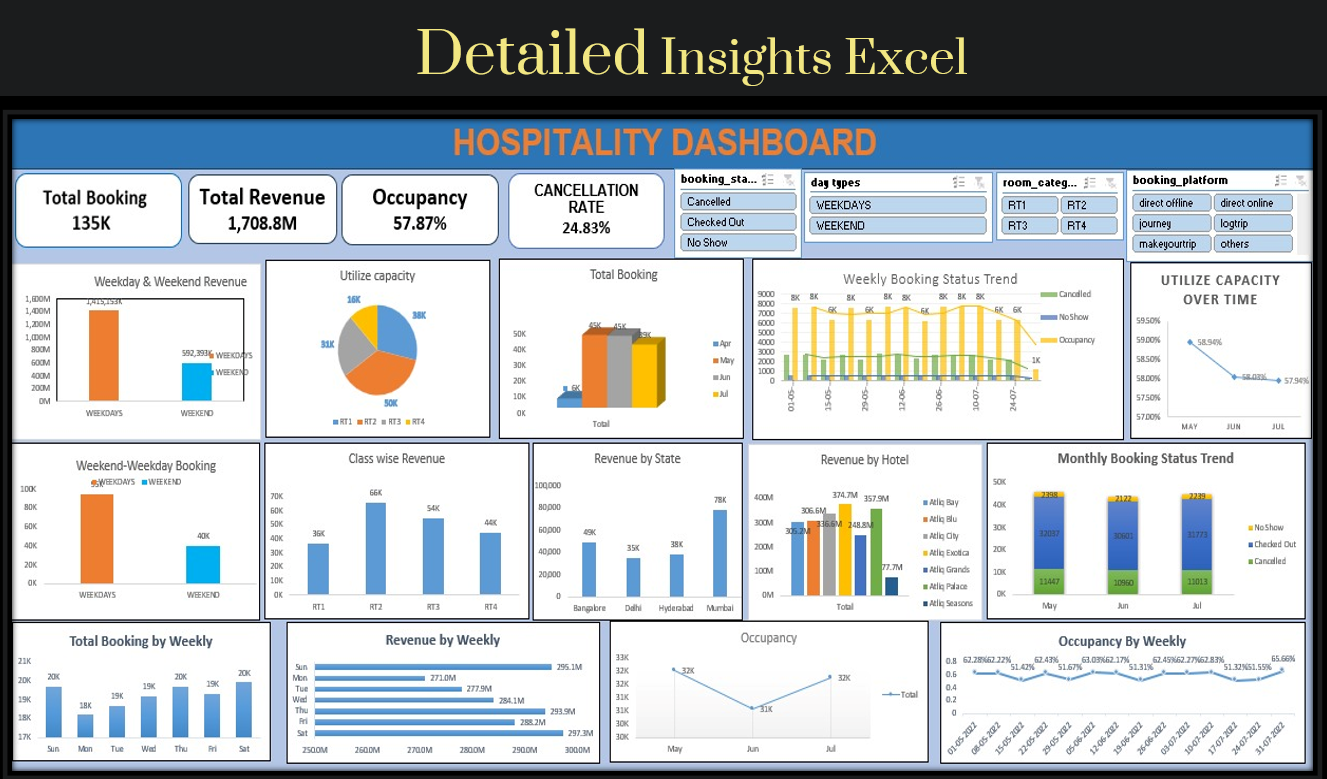

Layout of this report page (visuals, bound fields, positions):
{"tool":"tableau","page":{"name":"FINAL DB","canvas":[1000,1000],"units":"permille","ordinal":1},"visuals":[{"type":"title","box":[4.7,8.1,990.7,49.4]},{"type":"text","box":[890.3,58.7,104.9,91.1]},{"type":"image","param":"Image/Luxury Hotel Photography Portfolio _ 5 Brand Approved _ Bruce Vincentiis.j","box":[831,63.5,51.2,88.5]},{"type":"worksheet","title":"Total Bookings","mark":"Text","box":[256.9,71.9,120.2,100]},{"type":"worksheet","title":"Total Revenue","mark":"Automatic","box":[5.6,74.8,178.4,98.5]},{"type":"image","param":"Image/download (1).jpeg","box":[175.7,77.1,58,69.8]},{"type":"worksheet","title":"Occupancy Rate","mark":"Automatic","box":[427.1,77.1,148.3,89.6]},{"type":"worksheet","title":"Cancellation Rate","mark":"Automatic","box":[627.2,77.1,134.8,92.7]},{"type":"image","param":"Image/pppppp.jpg","box":[366.7,79.2,42.1,99]},{"type":"image","param":"Image/11442f2e-5ce3-4531-bb70-c4c4ab901af6.jpeg","box":[752.3,83.3,77.5,66.7]},{"type":"image","param":"Image/ooooooooooo.jpg","box":[547.3,84.4,39.7,69.8]},{"type":"filter","title":"Weekly Trend","param":"[federated.1bcq42s1rzw6071femzsl03fih8j].[mn:booking_date:ok]","box":[893.9,132.3,98.9,178.5]},{"type":"worksheet","title":"reveneu over property","mark":"Automatic","rows":["revenue_realized"],"cols":["booking_platform"],"box":[6.7,157.3,333.1,276]},{"type":"worksheet","title":"Sheet 18","mark":"Bar","rows":["booking_date"],"cols":["booking_id"],"box":[342.9,157.3,333.1,275]},{"type":"worksheet","title":"Weekday vs Weekend Revenue and Bookings","mark":"Bar","rows":["revenue_realized","Booking Id (copy 2)_763360169300037638"],"cols":["Calculation_763360169298223109","check_in_date (fact!aggregated!bookings)"],"box":[678.5,157.3,205,275]},{"type":"filter","title":"Weekly Trend","param":"[federated.1bcq42s1rzw6071femzsl03fih8j].[none:Calculation_763360169298223109:nk","box":[895.1,284.4,98.8,121.9]},{"type":"filter","title":"Revenue By State and Hotel","param":"[federated.1bcq42s1rzw6071femzsl03fih8j].[none:booking_platform:nk]","box":[895.1,384.4,98.8,263.5]},{"type":"worksheet","title":"BOOKING STATUS","mark":"Circle","box":[206.2,437.5,180,270.8]},{"type":"worksheet","title":"Sheet 17","mark":"Automatic","rows":["booking_id"],"cols":["property_name"],"box":[6.1,438.5,197.7,278.1]},{"type":"worksheet","title":"Weekly Trends","mark":"Automatic","rows":["revenue_realized","booking_id","capacity"],"cols":["check_in_date"],"box":[388.7,438.5,246.5,270.8]},{"type":"worksheet","title":"Class-wise Revenue","mark":"Automatic","rows":["room_category (fact!aggregated!bookings)"],"cols":["revenue_realized"],"box":[638.8,438.5,246.5,270.8]},{"type":"filter","title":"Revenue By State and Hotel","param":"[federated.1bcq42s1rzw6071femzsl03fih8j].[none:city:nk]","box":[896.9,604.2,98.8,178.1]},{"type":"worksheet","title":"Weekly Trend","mark":"Bar","rows":["check_in_date (fact!aggregated!bookings)","check_in_date (fact!aggregated!bookings)"],"cols":["revenue_realized"],"box":[7.3,714.6,256.2,272.9]},{"type":"worksheet","title":"Sheet 16","mark":"Automatic","box":[267.9,715.6,283.1,269.8]},{"type":"worksheet","title":"Revenue By State and Hotel","mark":"Automatic","rows":["revenue_realized"],"cols":["property_name"],"box":[553.4,716.7,333.1,268.8]}]}

Visuals, with their boxes on the dashboard's canvas, which has no fixed pixel size, in thousandths of its width and height (x1, y1, x2, y2). These are canvas units, not pixel positions in the 1327x779 screenshot, which may show the page scaled, cropped or inside an application window:
title: region(5, 8, 995, 58)
text: region(890, 59, 995, 150)
image: region(831, 64, 882, 152)
"Total Bookings" worksheet (Text marks): region(257, 72, 377, 172)
"Total Revenue" worksheet: region(6, 75, 184, 173)
image: region(176, 77, 234, 147)
"Occupancy Rate" worksheet: region(427, 77, 575, 167)
"Cancellation Rate" worksheet: region(627, 77, 762, 170)
image: region(367, 79, 409, 178)
image: region(752, 83, 830, 150)
image: region(547, 84, 587, 154)
"Weekly Trend" filter: region(894, 132, 993, 311)
"reveneu over property" worksheet: region(7, 157, 340, 433)
"Sheet 18" worksheet (Bar marks): region(343, 157, 676, 432)
"Weekday vs Weekend Revenue and Bookings" worksheet (Bar marks): region(678, 157, 884, 432)
"Weekly Trend" filter: region(895, 284, 994, 406)
"Revenue By State and Hotel" filter: region(895, 384, 994, 648)
"BOOKING STATUS" worksheet (Circle marks): region(206, 438, 386, 708)
"Sheet 17" worksheet: region(6, 438, 204, 717)
"Weekly Trends" worksheet: region(389, 438, 635, 709)
"Class-wise Revenue" worksheet: region(639, 438, 885, 709)
"Revenue By State and Hotel" filter: region(897, 604, 996, 782)
"Weekly Trend" worksheet (Bar marks): region(7, 715, 264, 988)
"Sheet 16" worksheet: region(268, 716, 551, 985)
"Revenue By State and Hotel" worksheet: region(553, 717, 886, 986)
